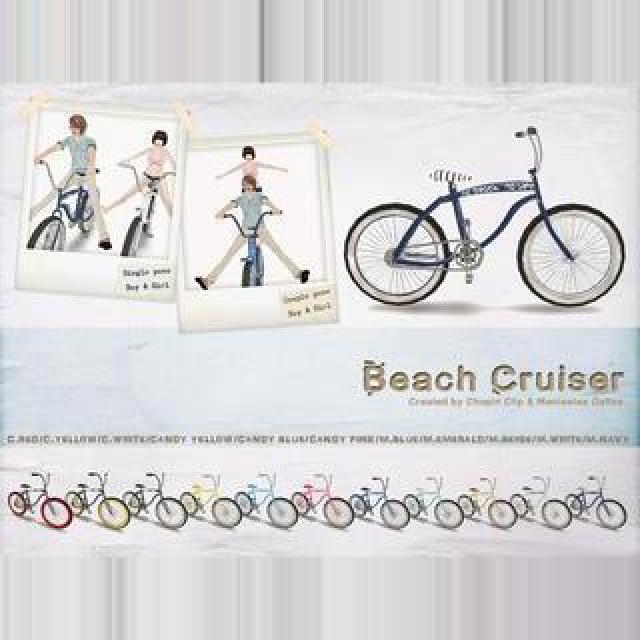MC-Bike: (196, 172, 308, 288), (34, 114, 100, 246), (124, 130, 176, 250)
Person: (348, 128, 622, 310), (112, 148, 174, 258), (28, 168, 106, 252), (550, 478, 628, 532), (122, 476, 188, 532), (8, 474, 72, 530), (66, 474, 130, 530), (234, 476, 298, 530), (290, 476, 354, 530), (456, 478, 518, 532), (178, 478, 242, 530), (400, 478, 464, 530), (510, 476, 570, 530), (348, 478, 410, 530)
